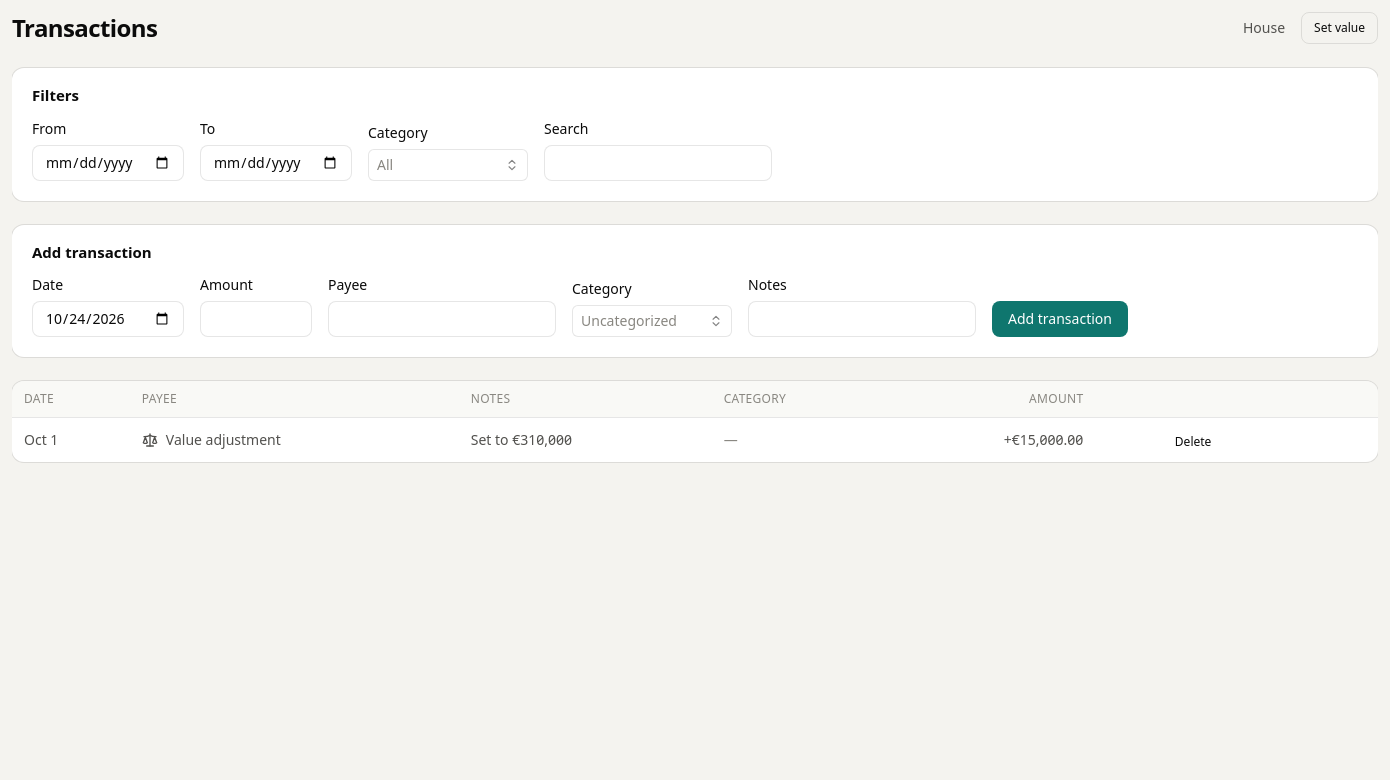
Value adjustments in the ledger › deletes an adjustment and refreshes the balances
What coordinates should you click on to do the following:
click the button "Delete"
I would click on:
 (1193, 442)
Its box is [1163, 426, 1223, 458].
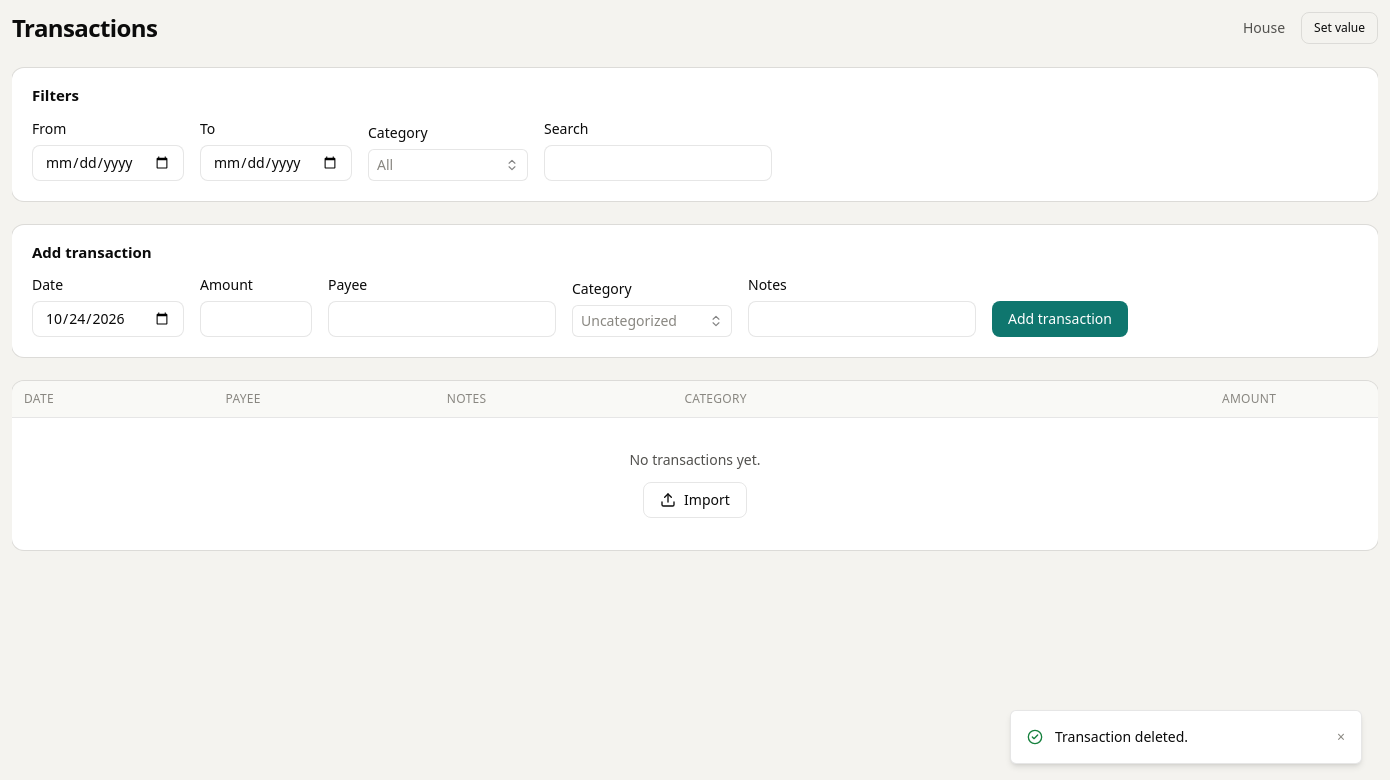
Expected: the text "Value adjustment" is gone
